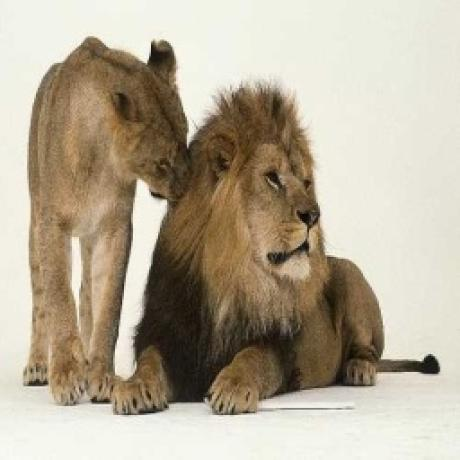Lion: (115, 78, 442, 420), (24, 33, 193, 408)
